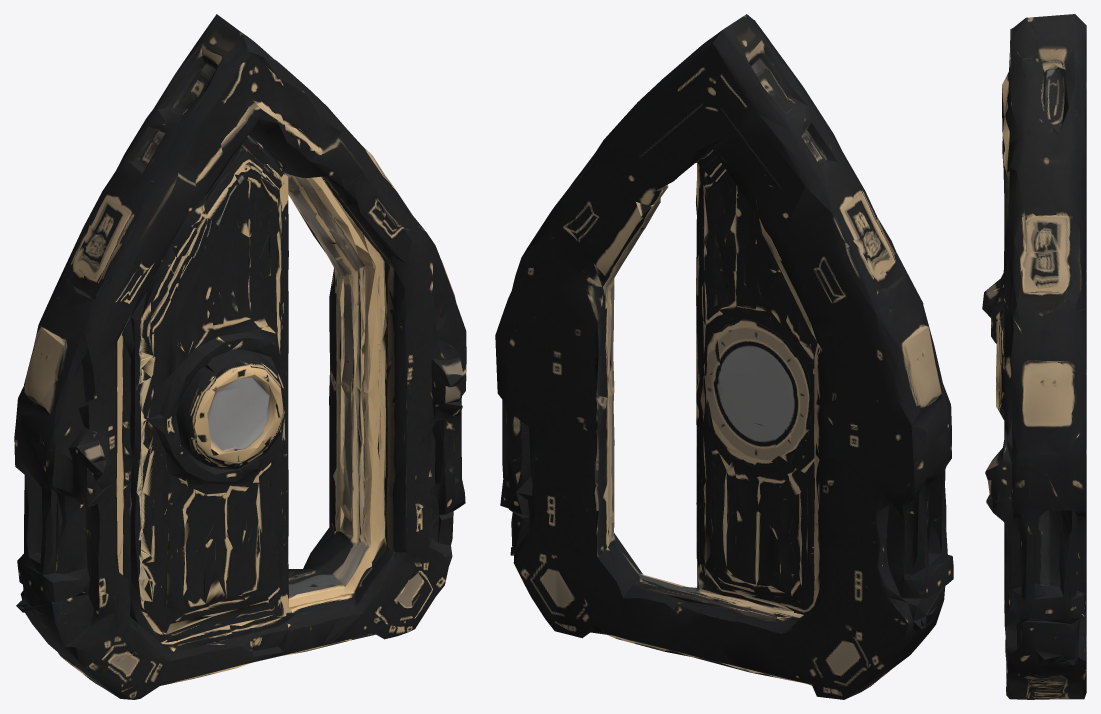
File: gothic_door.glb
3 renders of one model, left to right at view 1: azimuth 30°, elevation 25°; view 2: azimuth 150°, elevation 25°; view 3: azimuth 270°, elevation 25°, orthographic. The views are drawn at different scales.
Parts seen in each view (by area): view 1: prop; view 2: prop; view 3: prop.
Boxes of the visible parts, x1=… form: prop: x1=14, y1=14, x2=466, y2=699; prop: x1=495, y1=14, x2=953, y2=699; prop: x1=982, y1=14, x2=1086, y2=699.
Size of the model in its own units: 1.33 by 1.9 by 0.2956.
Materials: 1 (1 with a texture image).
